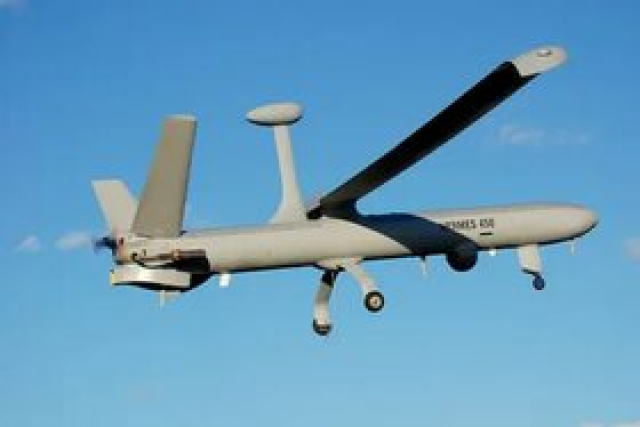military drone: (91, 42, 601, 336)
